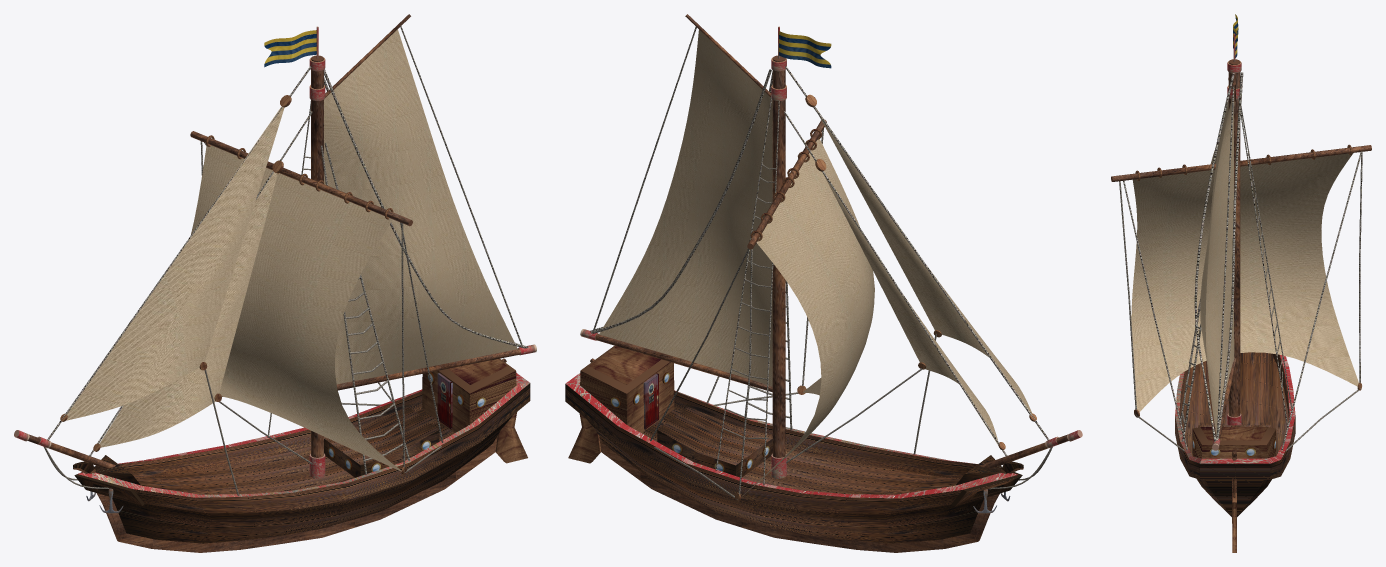
File: ship_07.glb
The picture shows the model from 3 angles, left to right: view 1: azimuth 30°, elevation 25°; view 2: azimuth 150°, elevation 25°; view 3: azimuth 270°, elevation 25°; orthographic projection. The views are drawn at different scales.
Visible parts, largest first — view 1: Object_7, Object_10, Object_6, Object_13, Object_12, Object_2, Object_5, Object_4; view 2: Object_7, Object_10, Object_6, Object_13, Object_12, Object_2, Object_5, Object_4; view 3: Object_7, Object_10, Object_13, Object_6, Object_12, Object_2, Object_3.
Part boxes in pixels (<box>): Object_7: <box>66,29,517,471</box>; Object_10: <box>73,383,530,543</box>; Object_6: <box>28,14,520,552</box>; Object_13: <box>44,25,528,496</box>; Object_12: <box>60,95,527,474</box>; Object_2: <box>14,26,536,497</box>; Object_5: <box>264,30,316,67</box>; Object_4: <box>437,373,452,429</box>; Object_7: <box>599,29,1031,495</box>; Object_10: <box>565,384,1023,543</box>; Object_6: <box>590,14,1068,552</box>; Object_13: <box>590,26,1052,499</box>; Object_12: <box>568,94,1036,501</box>; Object_2: <box>565,26,1082,498</box>; Object_5: <box>779,31,831,68</box>; Object_4: <box>643,373,658,429</box>; Object_7: <box>1131,93,1358,434</box>; Object_10: <box>1175,352,1295,516</box>; Object_13: <box>1119,72,1362,451</box>; Object_6: <box>1111,59,1371,523</box>; Object_12: <box>1134,78,1361,552</box>; Object_2: <box>1175,33,1295,463</box>; Object_3: <box>1281,151,1362,450</box>.
Bounding box in the file's own units: 2.26 × 2.16 × 1.12.
13 materials, 12 textured.
